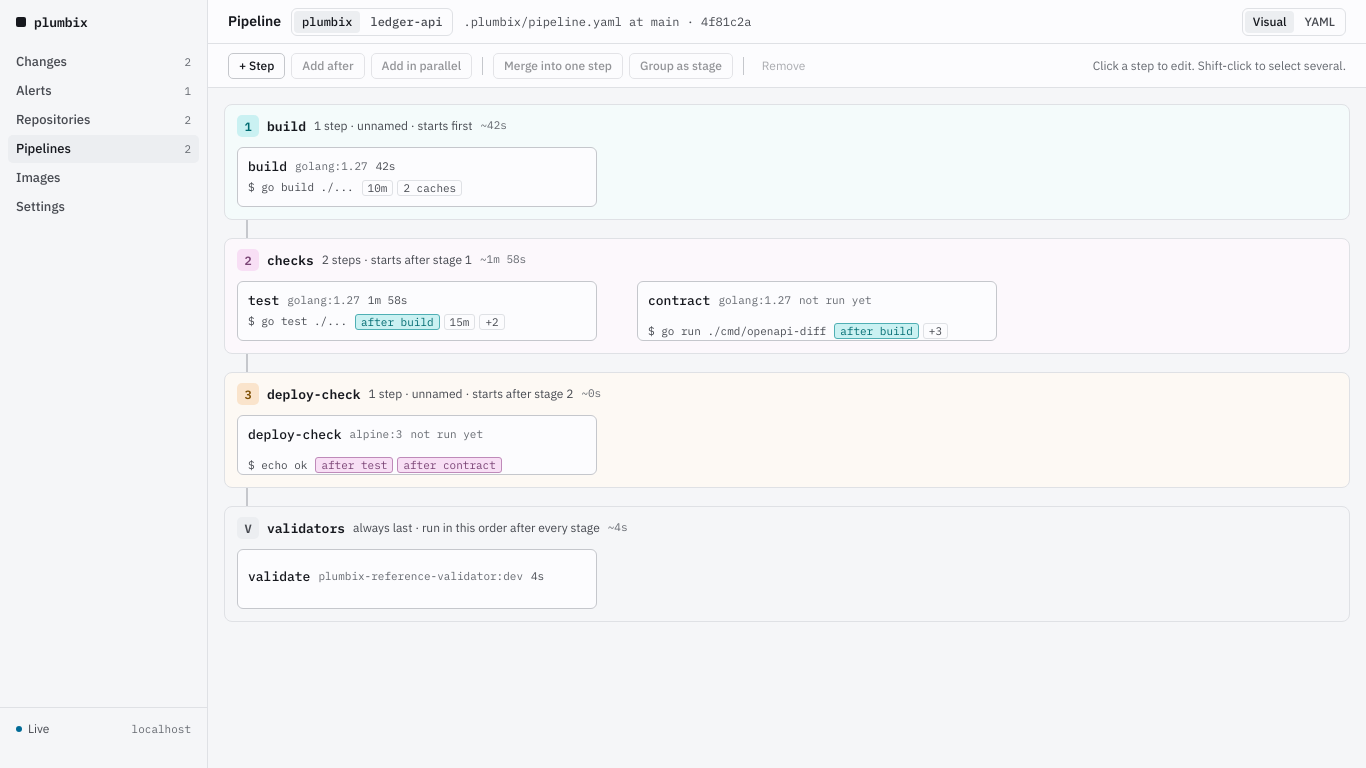
Test case: Pipelines page › switches repositories through the segmented control and the URL
Expected: the button "build" is shown, top-left (237, 147), bottom-right (597, 207)
Click the tab "ledger-api": click(406, 22) top-left (362, 10), bottom-right (450, 32)
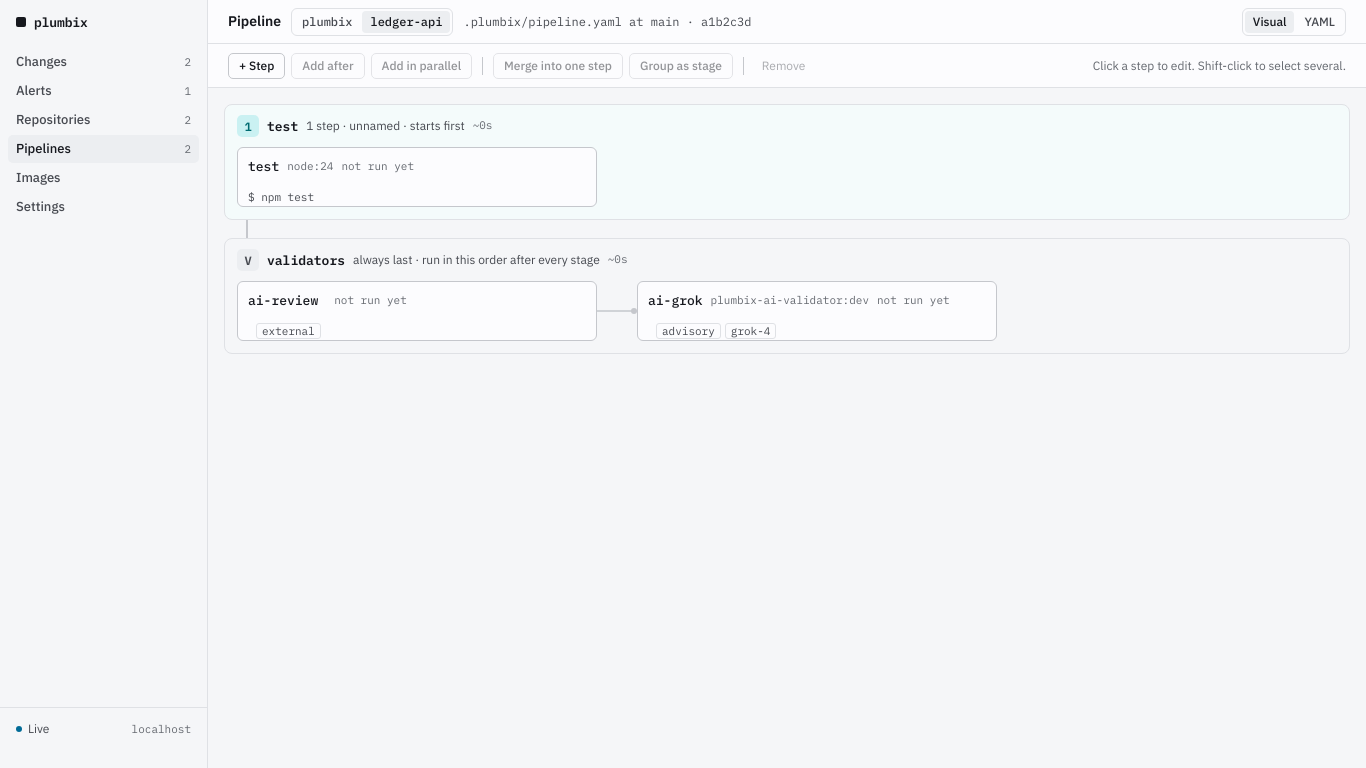
Now the text "build" is gone
